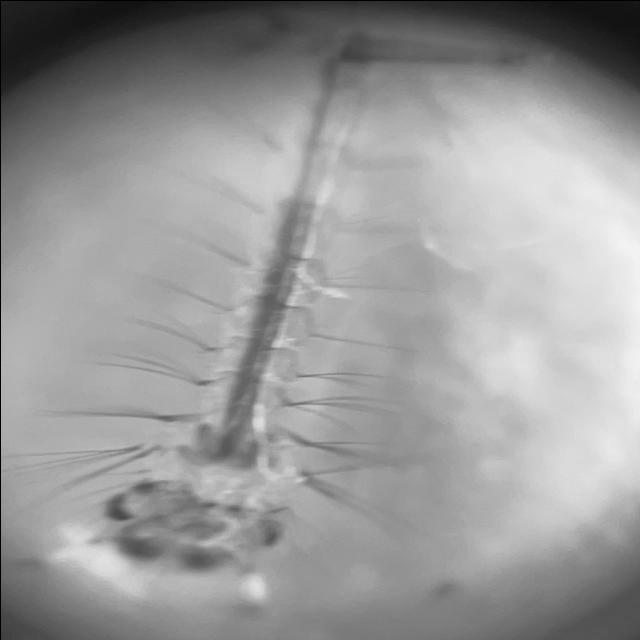larvas: (103, 40, 370, 568)
